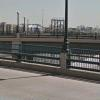Bridge: (1, 26, 95, 64)
